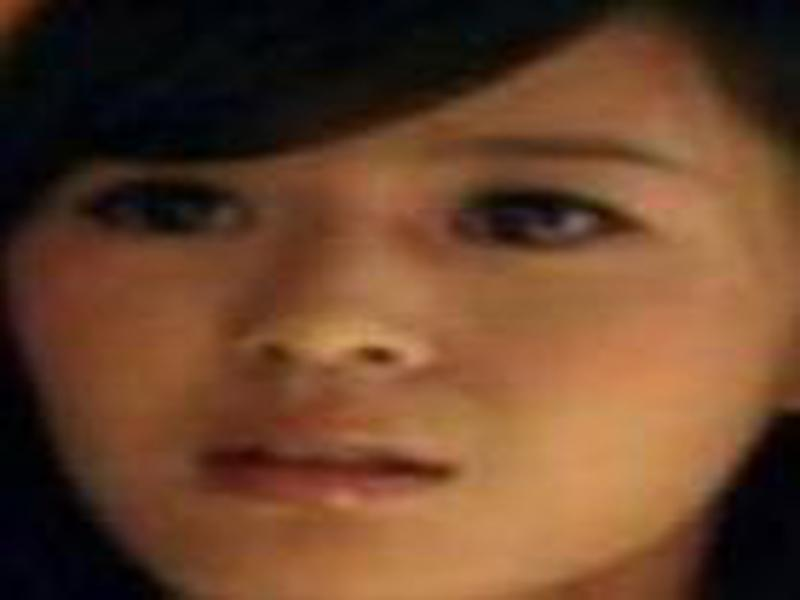without_mask: (17, 119, 768, 595)
